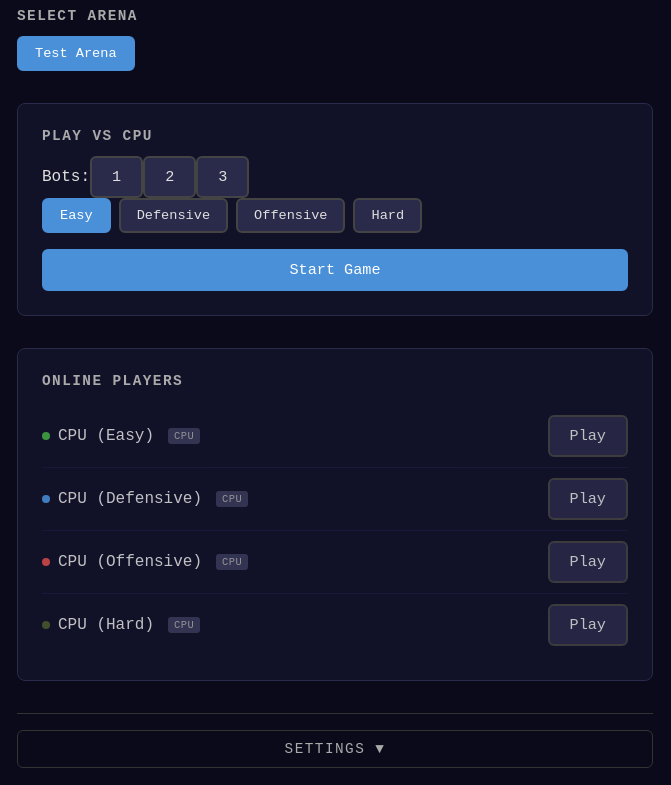
Test: LobbyPage › toggling Music mute shows OFF and persists to localStorage
(page scrolled)
Click the button "Settings ▼". click: click(335, 749)
box: [17,730,653,768]
(page scrolled)
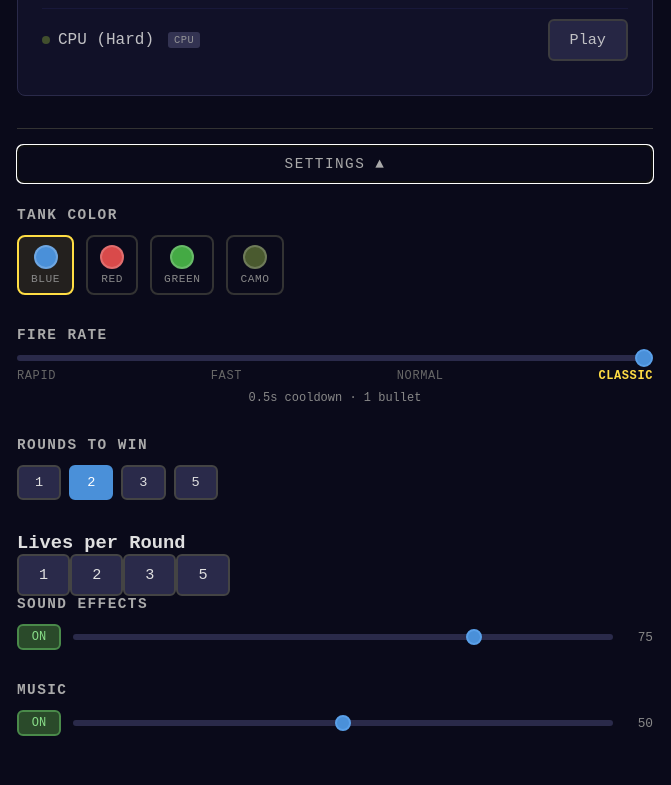
Click the button titled "Mute Music" in the row of "50". click: click(39, 723)
box: [17,710,61,736]
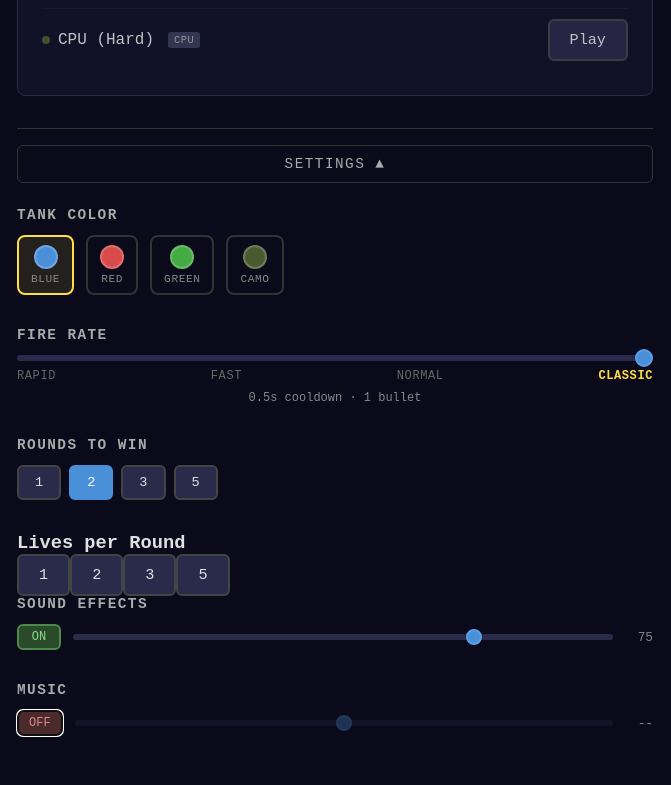
Result: the button titled "Mute Music" reads "OFF" at [17,710,63,736]
